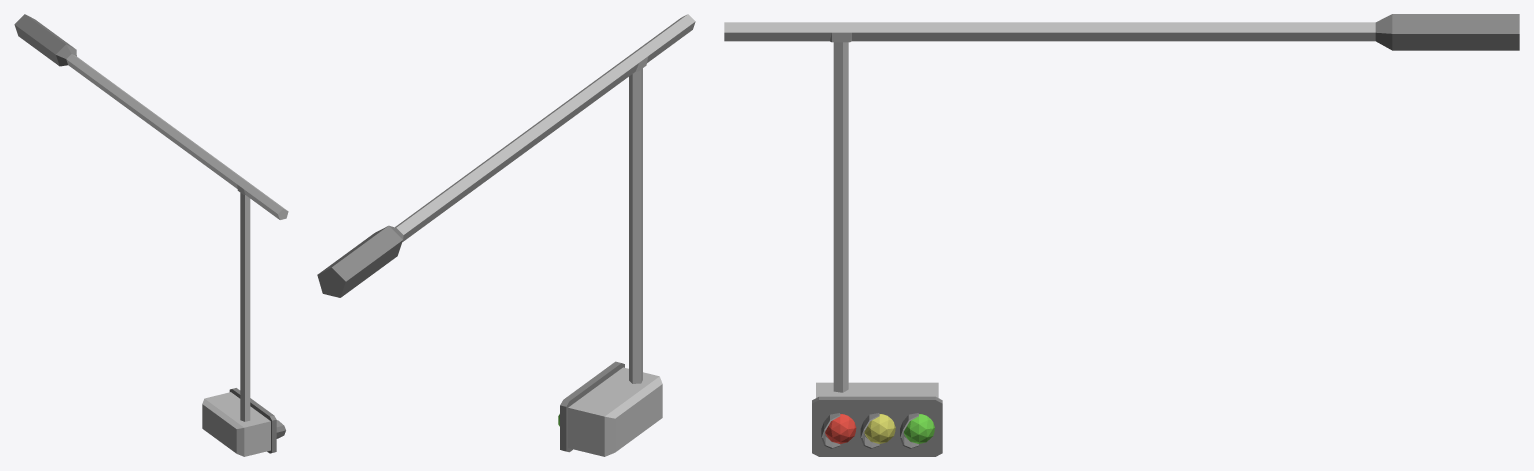
File: traffic-light-arm.obj
3 views of the same model, side by side, from view 1: azimuth 30°, elevation 25°; view 2: azimuth 150°, elevation 25°; view 3: azimuth 270°, elevation 25° (orthographic). The views are drawn at different scales.
Parts seen in each view (by area): view 1: traffic-light-arm; view 2: traffic-light-arm; view 3: traffic-light-arm.
Boxes of the visible parts, <box> form: traffic-light-arm: <box>14,14,288,456</box>; traffic-light-arm: <box>317,14,695,456</box>; traffic-light-arm: <box>724,14,1519,456</box>.
Size of the model in its own units: 23.43 by 128 by 216.
